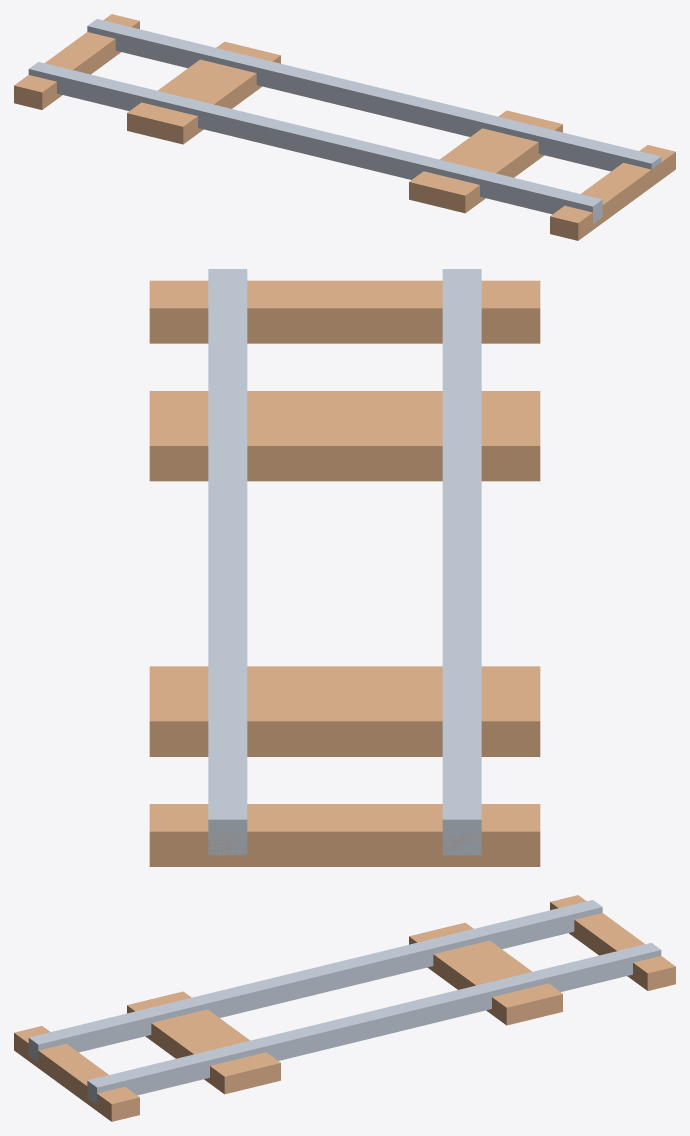
The model's file is straight_1-2-_-4.dae.
3 views of the same model, one above another, from view 1: azimuth 30°, elevation 25°; view 2: azimuth 150°, elevation 25°; view 3: azimuth 270°, elevation 25° (orthographic). The views are drawn at different scales.
Visible parts, largest first — view 1: Rails Straight, Beats Straight 01; view 2: Beats Straight 01, Rails Straight; view 3: Rails Straight, Beats Straight 01.
Boxes of the visible parts, box(x1,y1,x2,y2) form: Rails Straight: box(28, 19, 661, 223); Beats Straight 01: box(14, 14, 675, 240); Beats Straight 01: box(149, 280, 540, 866); Rails Straight: box(208, 269, 481, 855); Rails Straight: box(28, 900, 661, 1104); Beats Straight 01: box(14, 895, 675, 1121).
Bounding box in the file's own units: 0.7598 × 1.02 × 0.04.
